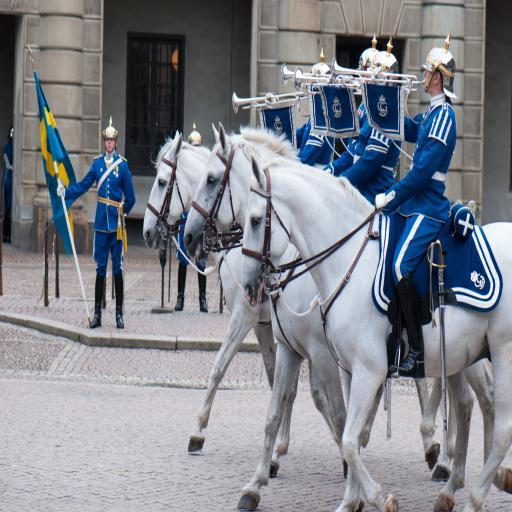horse: (178, 120, 510, 490), (140, 126, 449, 480), (240, 151, 512, 512)
